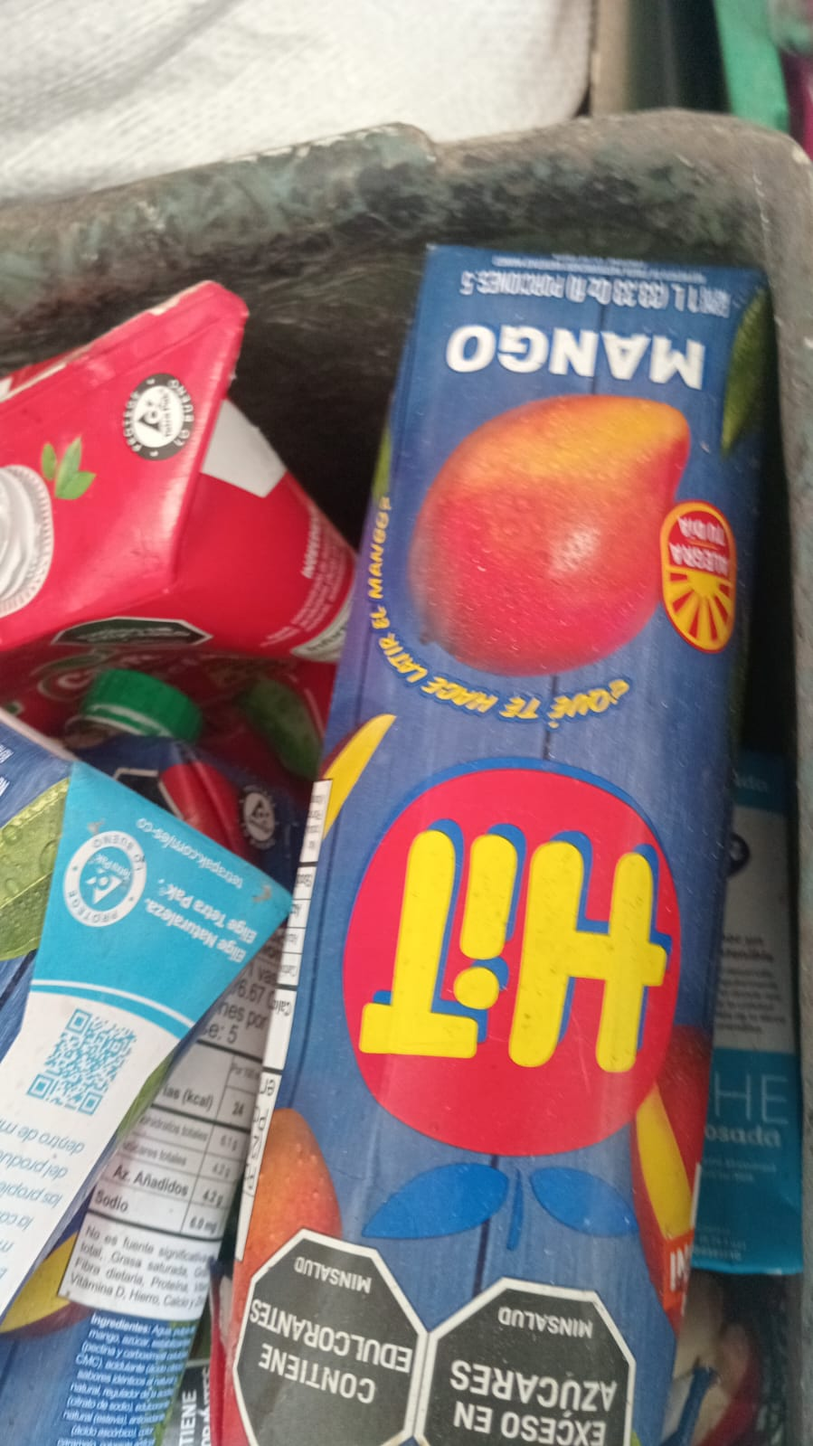Carton: (230, 238, 772, 1438), (0, 708, 284, 1327), (0, 286, 369, 670)
